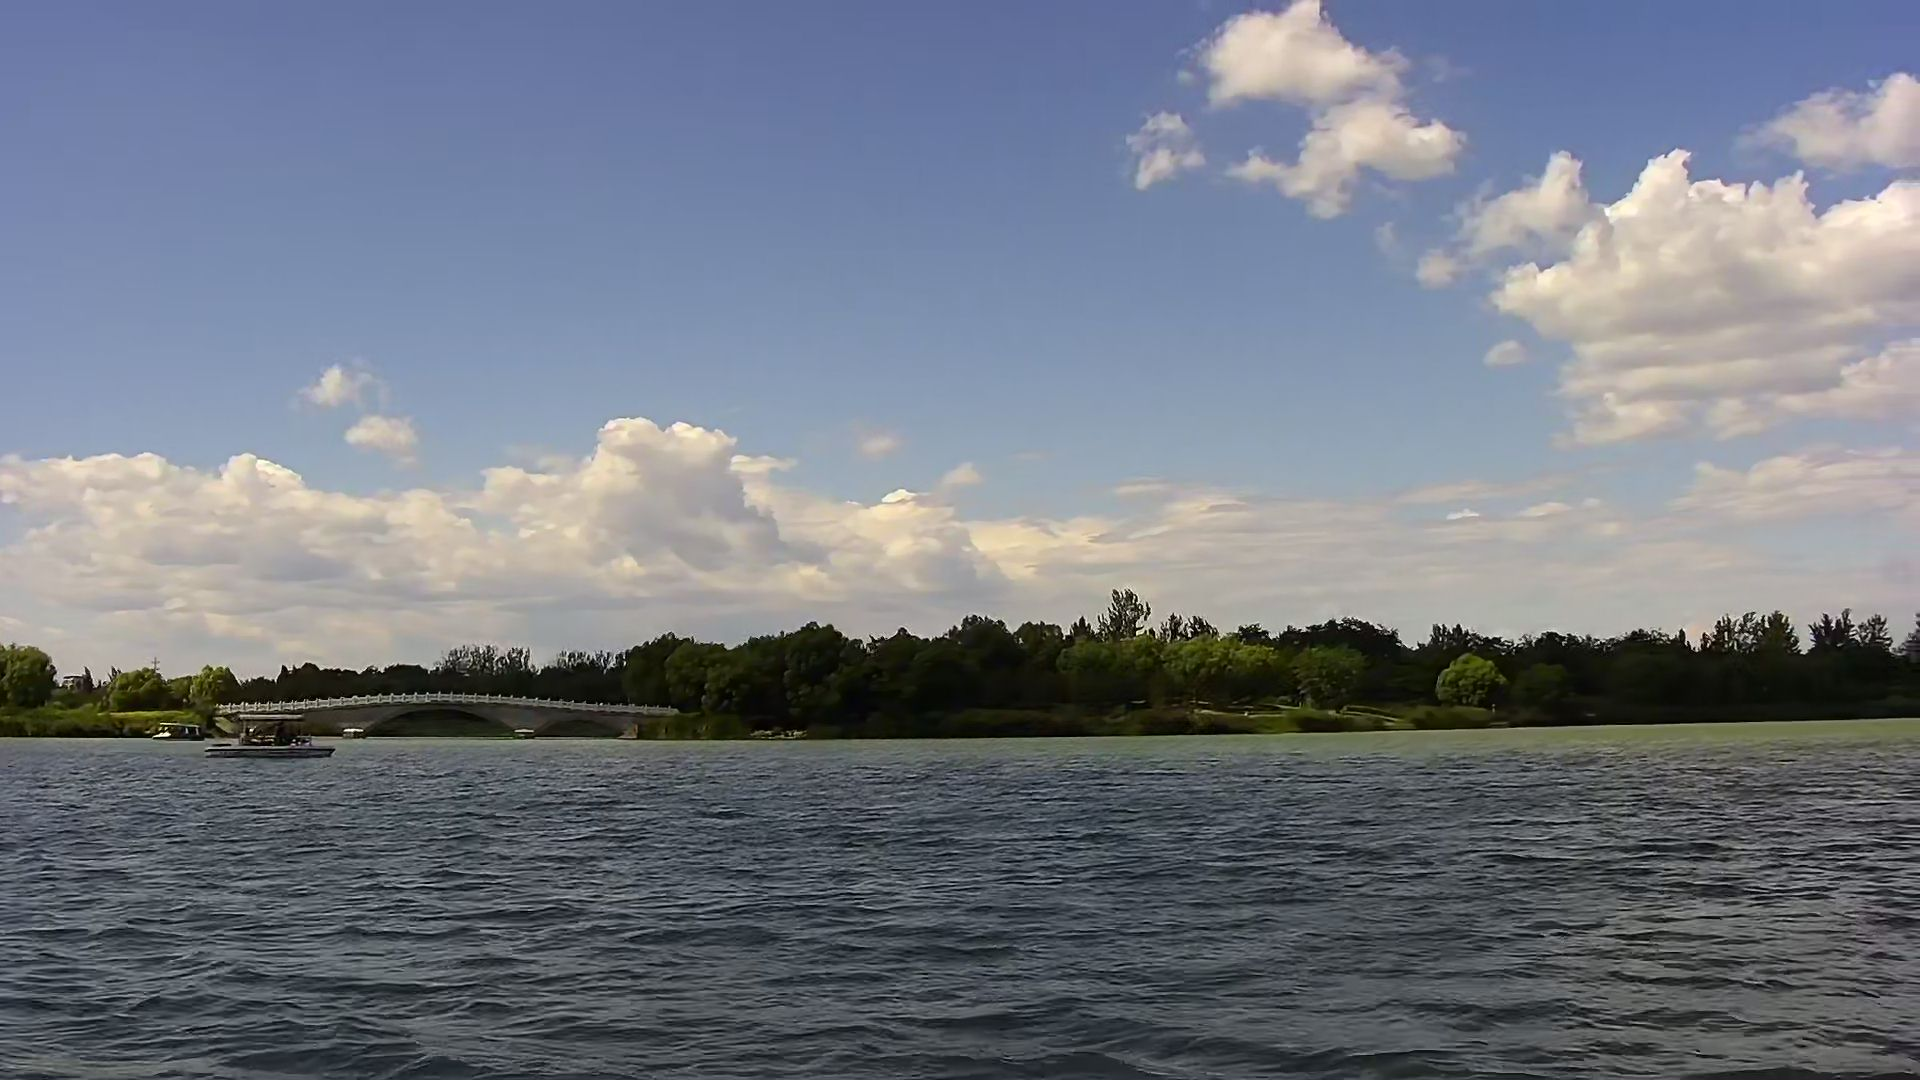boat: (210, 708, 328, 756)
bridge: (244, 686, 692, 750)
